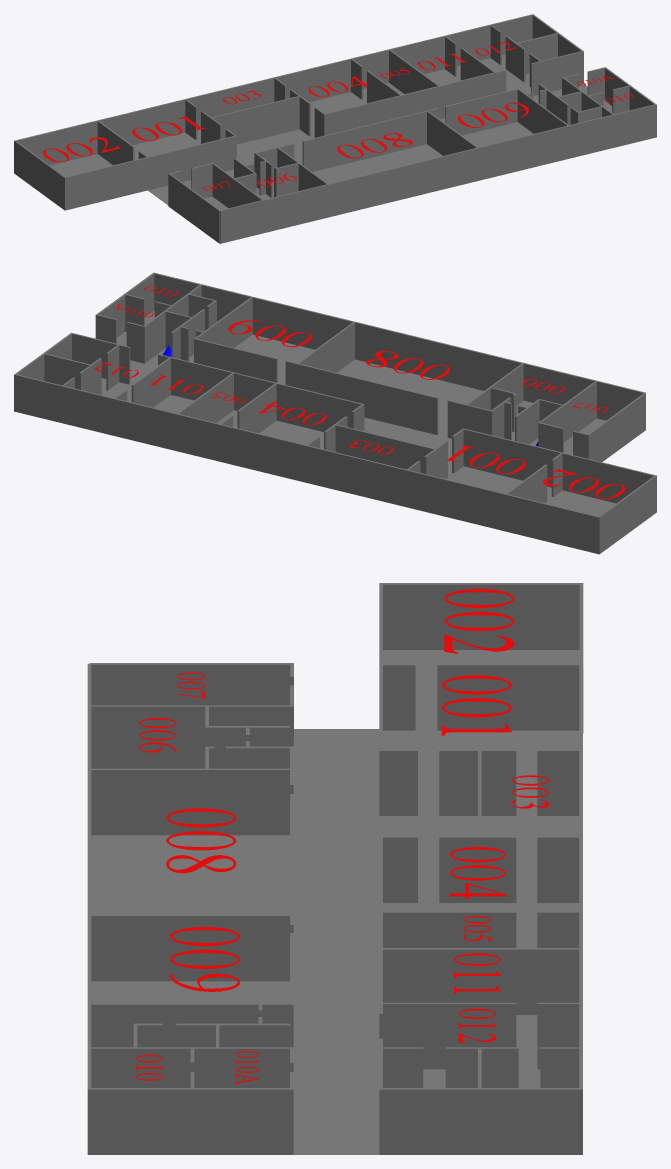
The model's file is mitch0.obj.
The picture shows the model from 3 angles, top to bottom: view 1: azimuth 30°, elevation 25°; view 2: azimuth 150°, elevation 25°; view 3: azimuth 270°, elevation 25°; orthographic projection. The views are drawn at different scales.
Visible parts, largest first — view 1: mitch0:pCube3, mitch0:pCube4, mitch0:wood0:pPlane1, pCube44, pCube19, pCube30, pCube41, pCube34, pCube18, pCube32, pCube33, mitch0:pCube1 (+29 smaller); view 2: mitch0:pCube4, mitch0:pCube3, mitch0:wood0:pPlane1, pCube44, pCube19, pCube32, pCube34, pCube30, pCube41, pCube33, mitch0:pCube1, pCube18 (+30 smaller); view 3: mitch0:wood0:pPlane1, pCube7, pCube48, pCube2, pCube3, pCube33, pCube45, pCube1, mitch0:pCube2, mitch0:pCube1, pCube6, pCube47 (+20 smaller).
Boxes of the visible parts, x1,y1,x2,y2 form: mitch0:pCube3: (220,104,656,243); mitch0:pCube4: (99,14,533,145); mitch0:wood0:pPlane1: (133,54,612,210); pCube44: (325,69,506,134); pCube19: (302,108,437,171); pCube30: (64,157,148,210); pCube41: (212,96,299,144); pCube34: (148,135,236,189); pCube18: (445,88,518,135); pCube32: (14,119,101,173); pCube33: (15,141,66,209); mitch0:pCube1: (169,174,220,243); mitch0:pCube4: (14,374,506,530); mitch0:pCube3: (153,272,645,420); mitch0:wood0:pPlane1: (101,310,605,499); pCube44: (158,354,362,431); pCube19: (285,360,438,434); pCube32: (501,493,600,554); pCube34: (462,428,561,487); pCube30: (561,452,656,512); pCube41: (335,424,434,473); pCube33: (599,476,656,553); mitch0:pCube1: (588,393,645,461); pCube18: (194,338,277,382); mitch0:wood0:pPlane1: (91,729,579,1154); pCube7: (91,1088,291,1154); pCube48: (381,1088,581,1154); pCube2: (90,768,289,835); pCube3: (90,914,289,981); pCube33: (383,583,579,649); pCube45: (383,948,582,1014); pCube1: (437,663,579,730); mitch0:pCube2: (90,705,290,768); mitch0:pCube1: (90,663,290,705); pCube6: (90,1047,290,1087); pCube47: (380,1002,516,1069).
Size of the model in its own units: 3327 by 201 by 1375.
